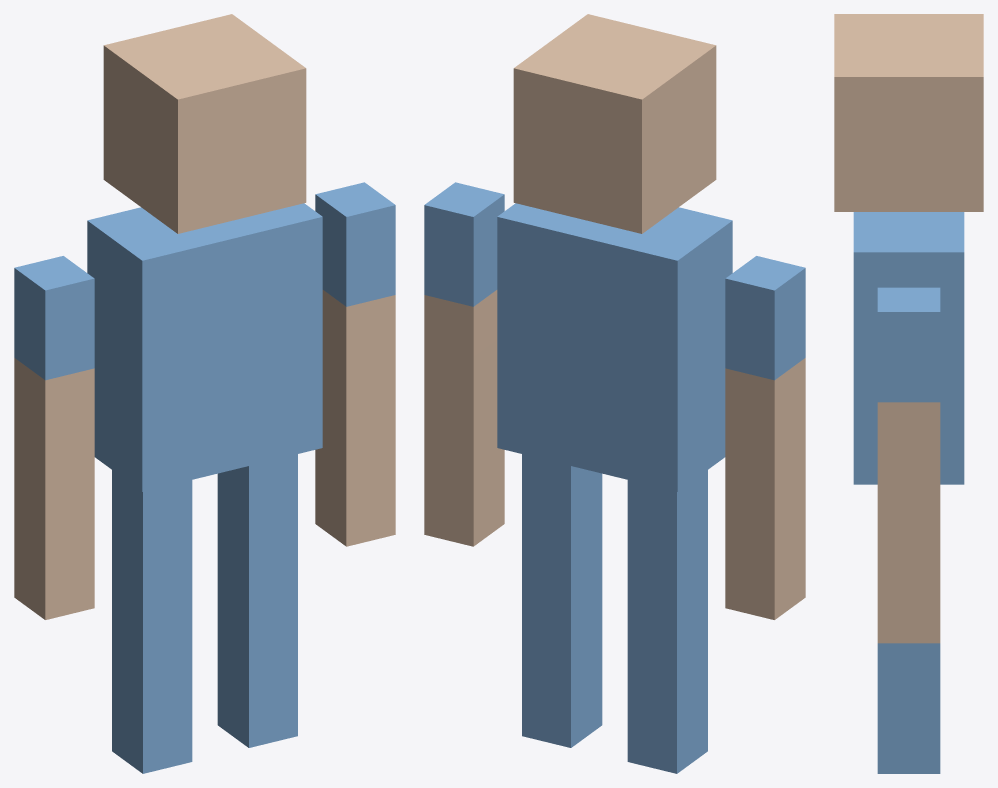
The model's file is cube_person_textured.fbx.
3 renders of one model, left to right at view 1: azimuth 30°, elevation 25°; view 2: azimuth 150°, elevation 25°; view 3: azimuth 270°, elevation 25°, orthographic.
Parts seen in each view (by area): view 1: hidden_Player; view 2: hidden_Player; view 3: hidden_Player.
Part boxes in pixels (box(x1,y1,x2,y2)): hidden_Player: box(14, 14, 395, 773); hidden_Player: box(424, 14, 805, 773); hidden_Player: box(834, 14, 983, 773).
Bounding box in the file's own units: 324 × 608 × 119.
